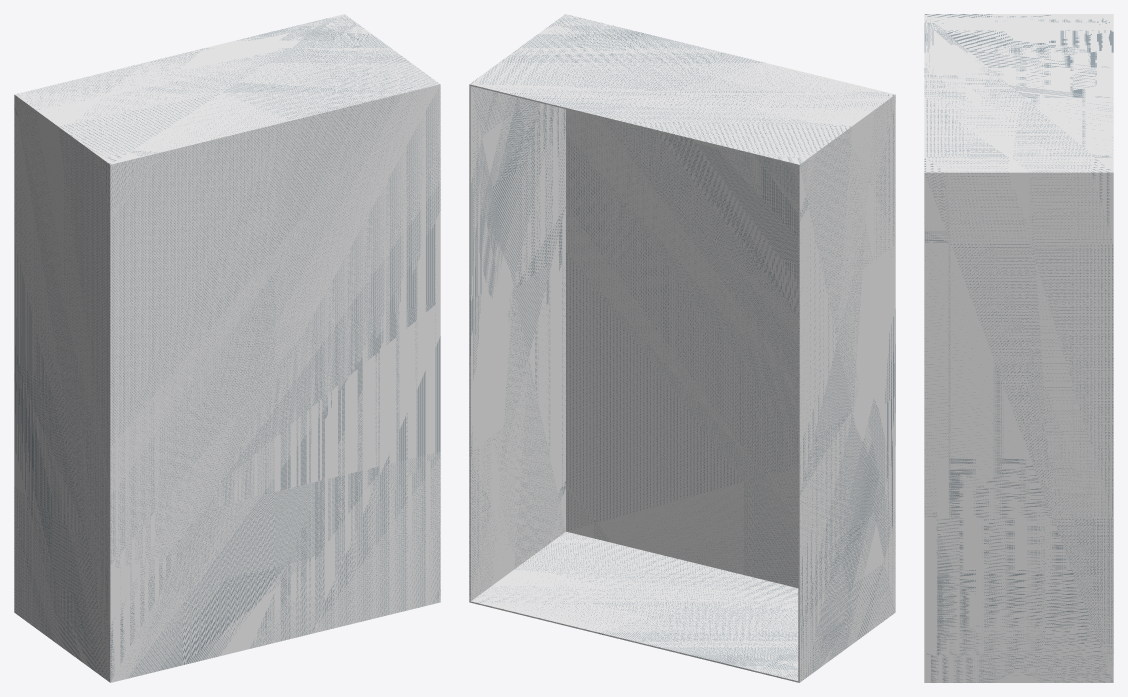
File: IconicFrame.dae
3 renders of one model, left to right at view 1: azimuth 30°, elevation 25°; view 2: azimuth 150°, elevation 25°; view 3: azimuth 270°, elevation 25°, orthographic.
Visible parts, largest first — view 1: SketchUp; view 2: SketchUp_Instance_0, SketchUp; view 3: SketchUp.
Part boxes in pixels (x1=…): SketchUp: x1=14, y1=14, x2=440, y2=682; SketchUp_Instance_0: x1=470, y1=86, x2=798, y2=680; SketchUp: x1=469, y1=14, x2=895, y2=682; SketchUp: x1=924, y1=14, x2=1113, y2=682.
Size of the model in its own units: 11.81 by 5.95 by 17.72.
